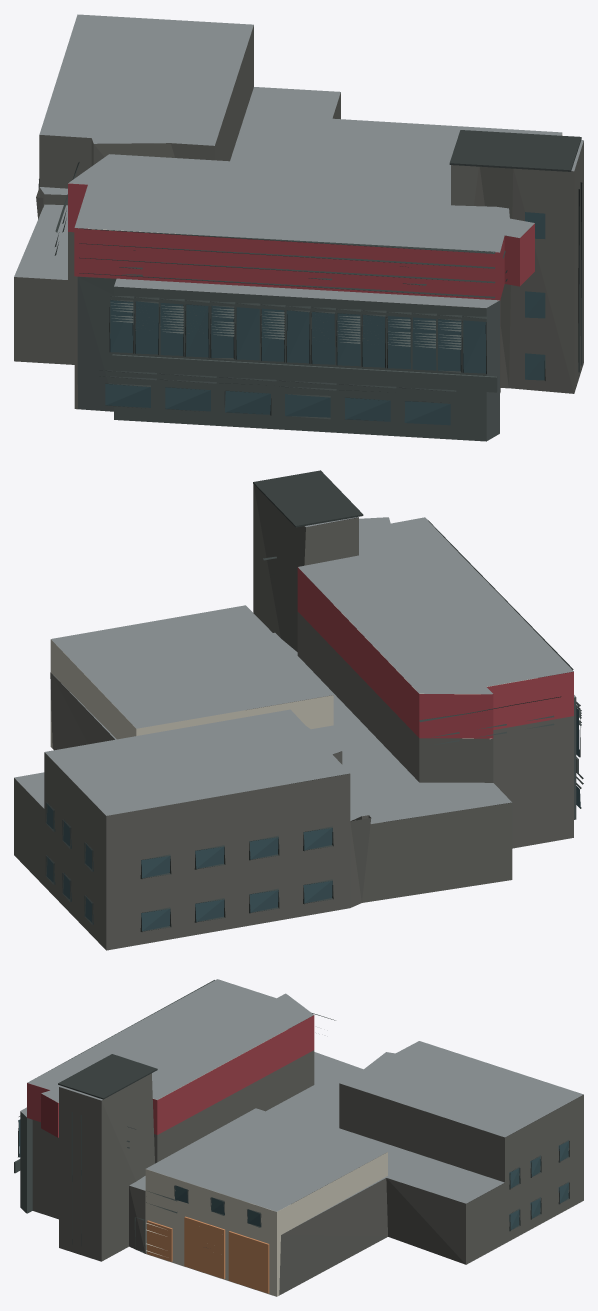
The model's file is fire-station-ijsbrand.lod1.glb.
3 renders of one model, top to bottom at view 1: azimuth 30°, elevation 25°; view 2: azimuth 150°, elevation 25°; view 3: azimuth 270°, elevation 25°, orthographic. The views are drawn at different scales.
Parts seen in each view (by area): view 1: fire-station-ijsbrand; view 2: fire-station-ijsbrand; view 3: fire-station-ijsbrand.
Part boxes in pixels (<box>): fire-station-ijsbrand: <box>14,14,583,441</box>; fire-station-ijsbrand: <box>14,470,583,950</box>; fire-station-ijsbrand: <box>14,979,583,1296</box>.
Bounding box in the file's own units: 38.6 × 15.62 × 49.51.
